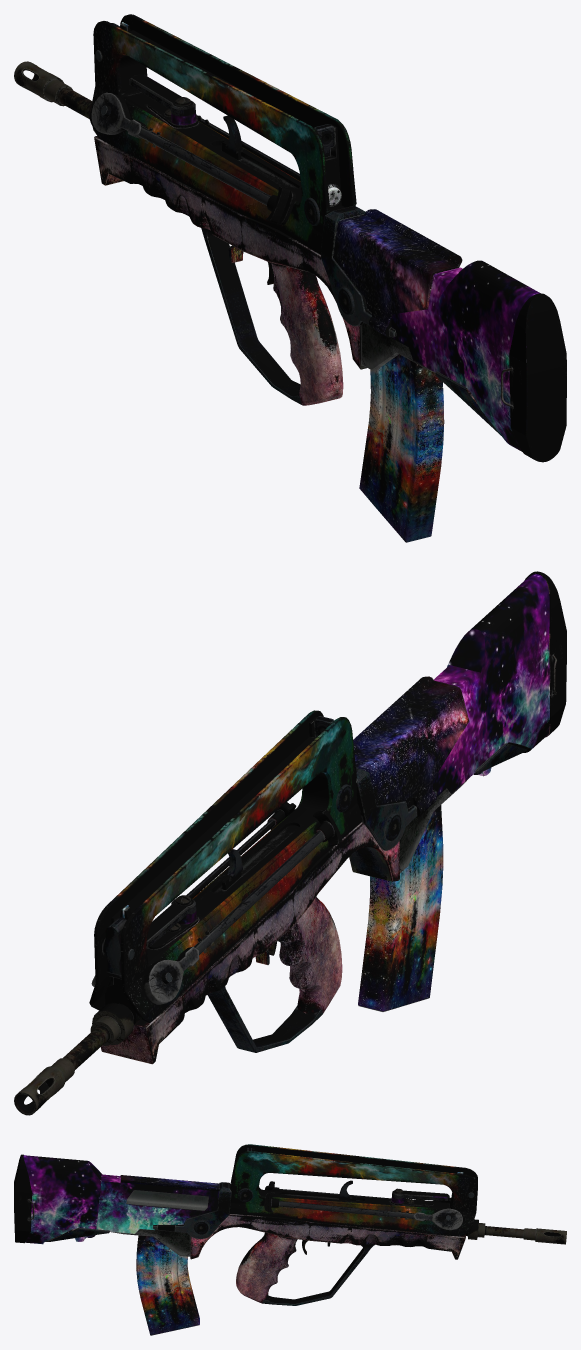
Rendered from famas.glb.
The picture shows the model from 3 angles, top to bottom: view 1: azimuth 30°, elevation 25°; view 2: azimuth 150°, elevation 25°; view 3: azimuth 270°, elevation 25°; orthographic projection. The views are drawn at different scales.
Parts seen in each view (by area): view 1: Object_2; view 2: Object_2; view 3: Object_2.
Boxes of the visible parts, x1,y1,x2,y2 form: Object_2: (14, 14, 566, 542); Object_2: (14, 571, 566, 1115); Object_2: (14, 1144, 566, 1335).
Bounding box in the file's own units: 0.0821 × 0.368 × 1.
1 material, 1 textured.
